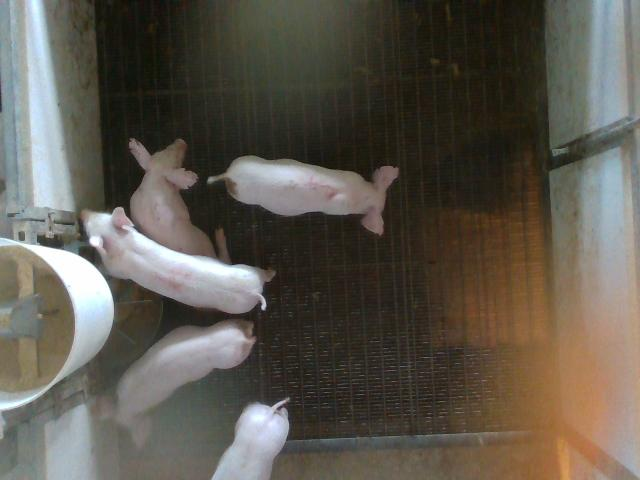pig-4: (82, 208, 275, 313)
pig-5: (208, 156, 398, 234)
